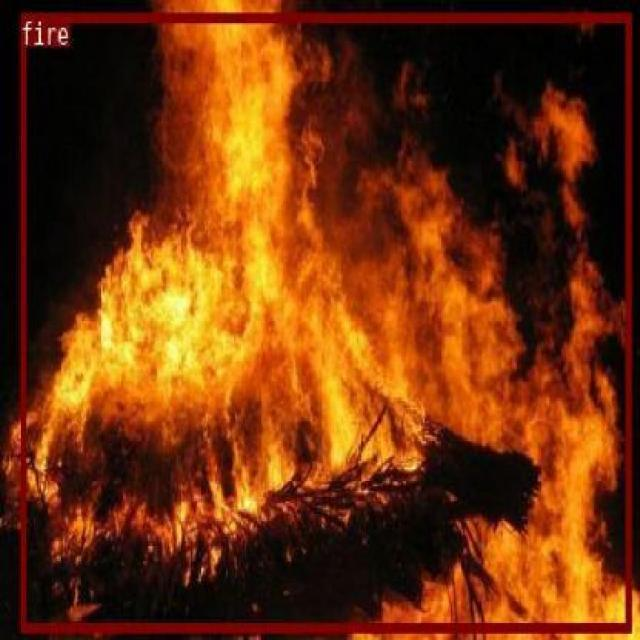Fire: (18, 11, 630, 632)
